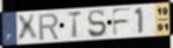1: (133, 7, 146, 35)
F: (111, 7, 134, 37)
R: (37, 12, 60, 41)
S: (86, 8, 108, 39)
T: (67, 10, 84, 40)
X: (15, 13, 40, 43)
